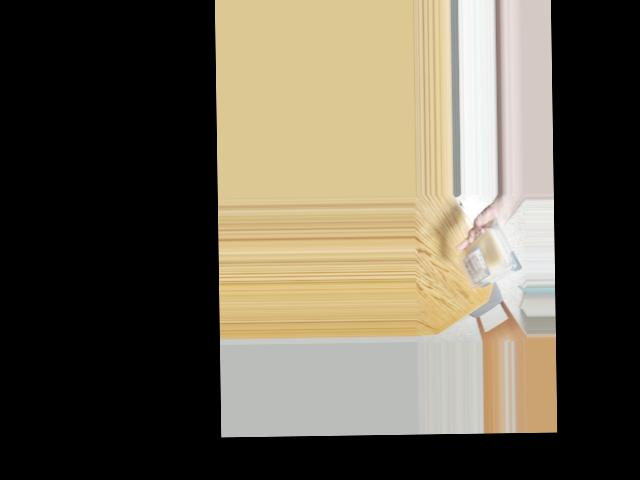cheese: (459, 224, 514, 292)
